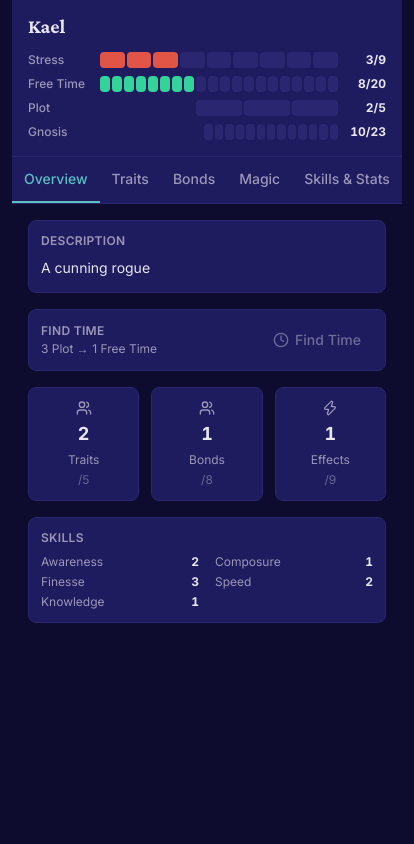
Scenario: character sheet — tab switching › switching to Traits tab reveals traits content in tab panel
The width and height of the screenshot is (414, 844).
Expected: the element named "Stress: 3 of 9" is shown, x1=28 y1=52 x2=386 y2=68
Click the tab "Traits" at (130, 180), box x1=100 y1=157 x2=161 y2=203
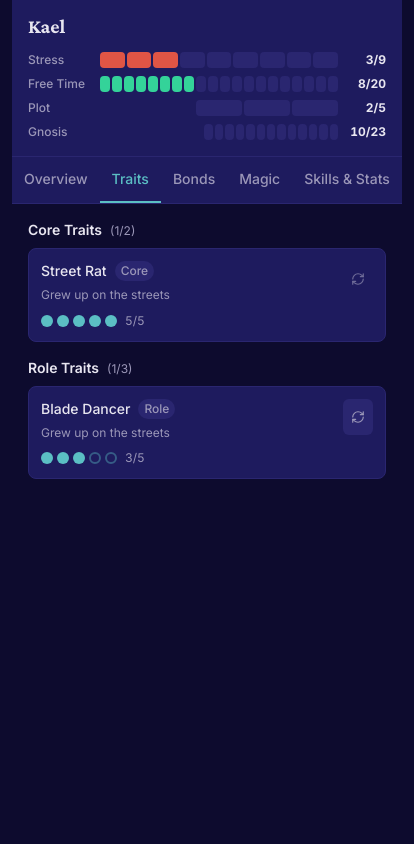
Now the text "Street Rat" is shown, box x1=41 y1=261 x2=107 y2=281
Now the text "Blade Dancer" is shown, box x1=41 y1=398 x2=130 y2=418
